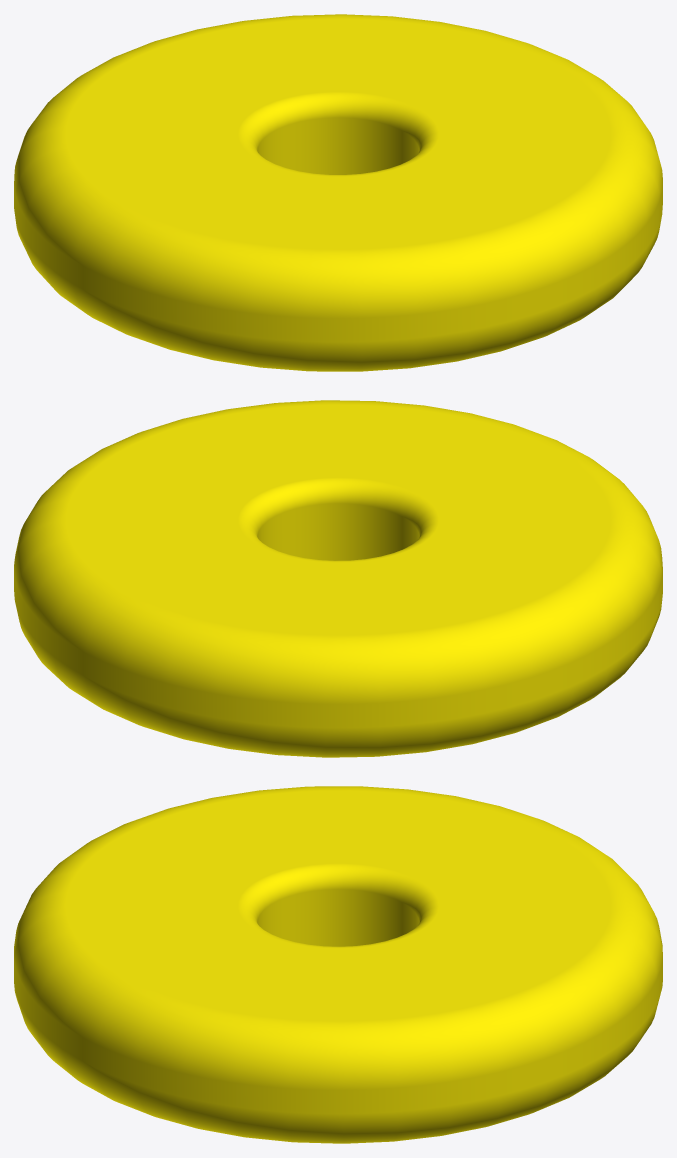
The model's file is disk3.dae.
3 renders of one model, top to bottom at view 1: azimuth 30°, elevation 25°; view 2: azimuth 150°, elevation 25°; view 3: azimuth 270°, elevation 25°, orthographic.
Parts seen in each view (by area): view 1: ID2; view 2: ID2; view 3: ID2.
Part boxes in pixels (x1,y1,x2,y2): ID2: (14, 14, 662, 371); ID2: (14, 400, 662, 757); ID2: (14, 786, 662, 1143).
Size of the model in its own units: 0.05 by 0.05 by 0.01.
